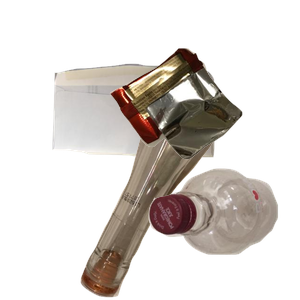glass: (78, 128, 298, 300)
paper: (50, 61, 257, 211)
plastic: (146, 166, 300, 300)
trash: (107, 46, 300, 198)
